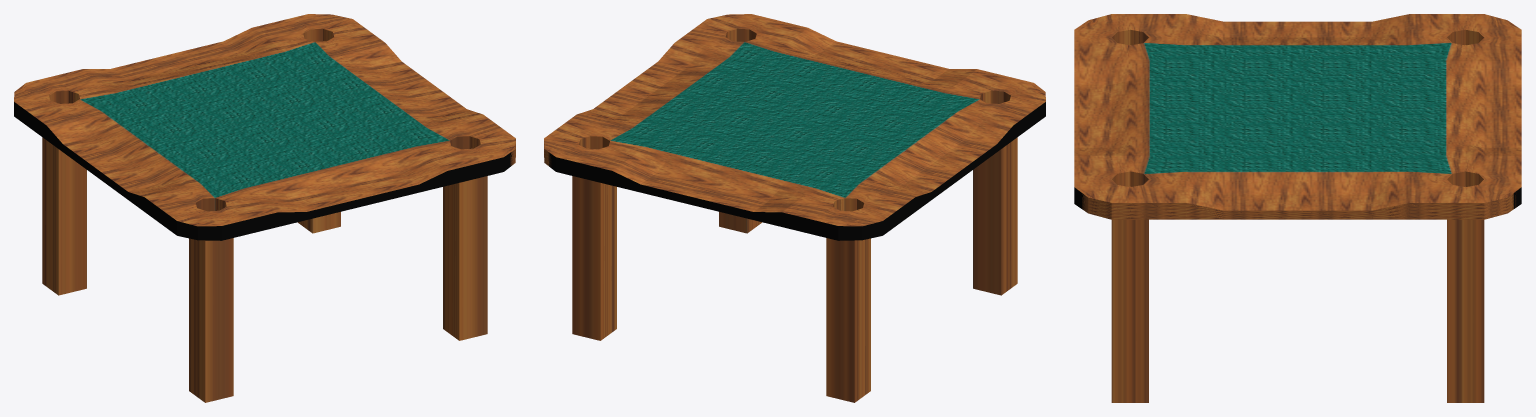
The model's file is table.glb.
3 renders of one model, left to right at view 1: azimuth 30°, elevation 25°; view 2: azimuth 150°, elevation 25°; view 3: azimuth 270°, elevation 25°, orthographic. The views are drawn at different scales.
Visible parts, largest first — view 1: Cube; view 2: Cube; view 3: Cube.
Boxes of the visible parts, <box> form: Cube: <box>14,14,515,402</box>; Cube: <box>544,14,1045,402</box>; Cube: <box>1074,14,1521,402</box>.
Size of the model in its own units: 48 by 25.56 by 48.
Materials: 1 (1 with a texture image).
